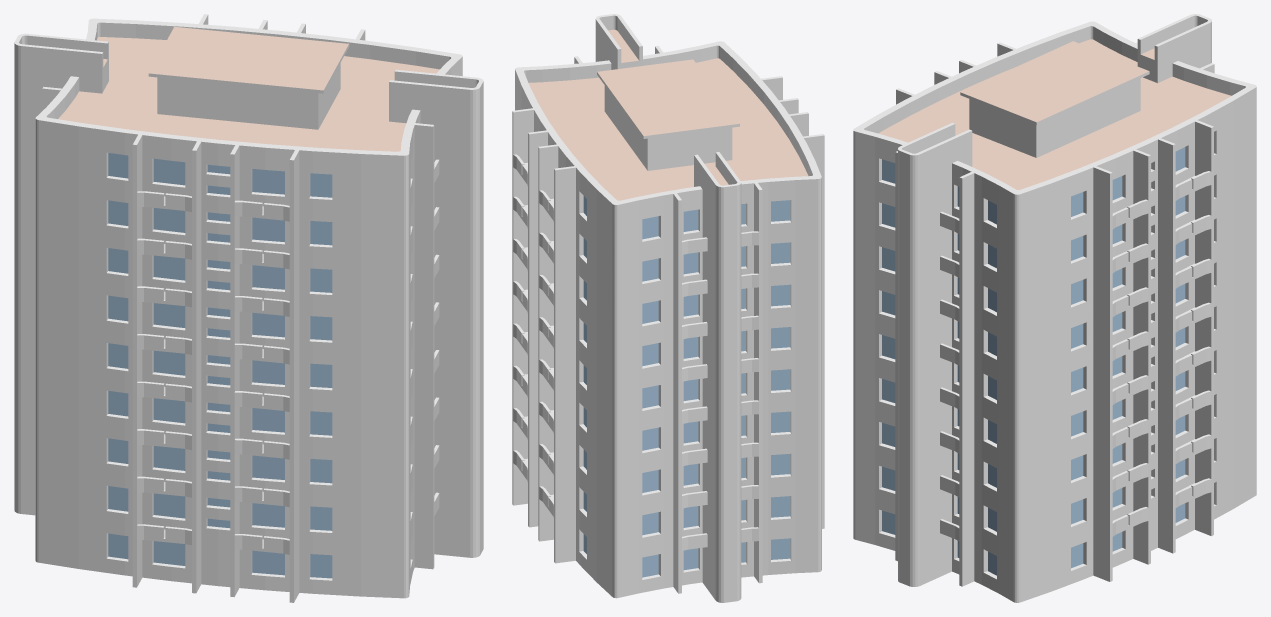
The model's file is zhandosova-saina4.glb.
The picture shows the model from 3 angles, left to right: view 1: azimuth 30°, elevation 25°; view 2: azimuth 150°, elevation 25°; view 3: azimuth 270°, elevation 25°; orthographic projection. The views are drawn at different scales.
Visible parts, largest first — view 1: wall, walls, window, roof; view 2: wall, walls, roof, window; view 3: wall, walls, roof, window.
Part boxes in pixels (x1,y1,x2,y2): wall: (14, 15, 483, 602); walls: (14, 14, 483, 602); window: (108, 153, 332, 578); roof: (58, 26, 439, 151); wall: (513, 15, 824, 602); walls: (512, 14, 824, 593); roof: (528, 29, 808, 200); window: (583, 196, 790, 577); wall: (853, 15, 1256, 602); walls: (853, 14, 1256, 586); roof: (878, 39, 1231, 189); window: (882, 147, 1185, 575).
Bounding box in the file's own units: 25.39 × 29.7 × 24.99.
